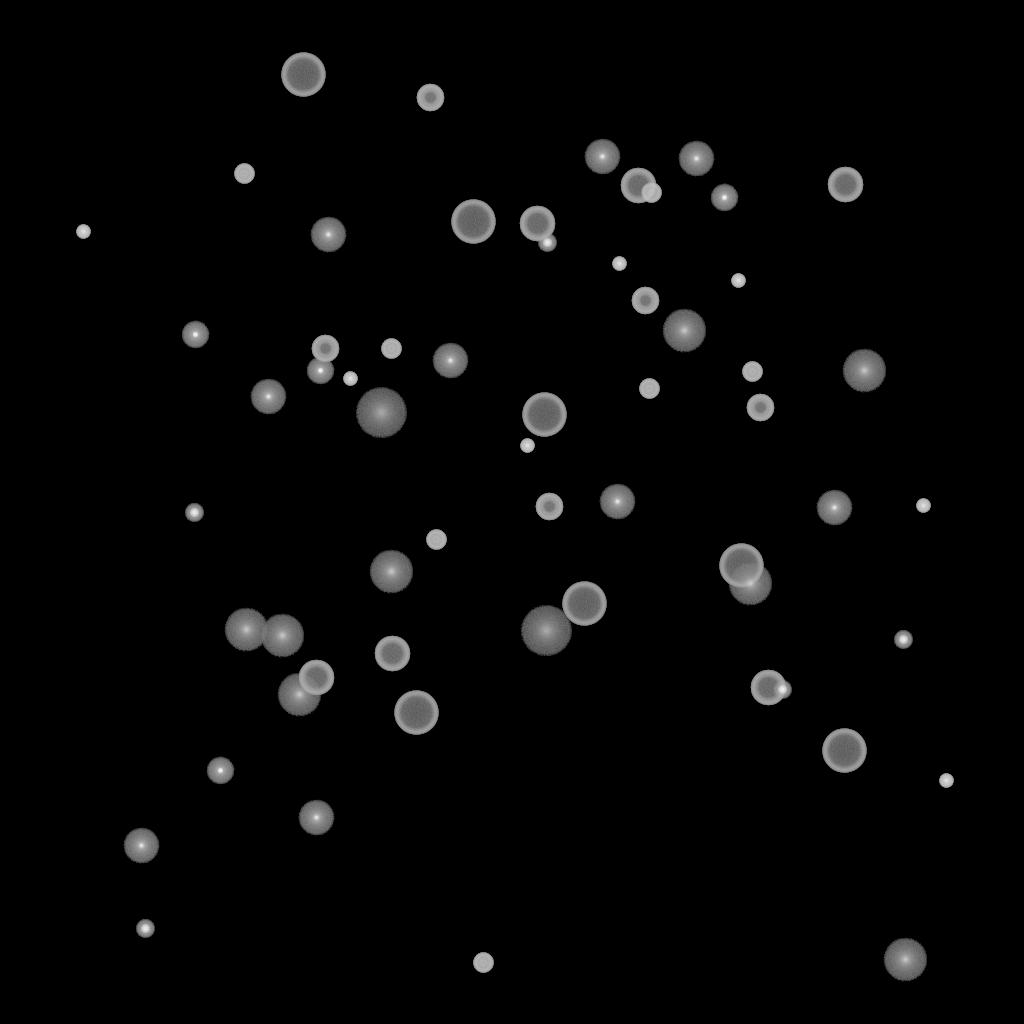depth:-10: (206, 757, 234, 785), (181, 321, 209, 349), (306, 357, 334, 385), (710, 184, 738, 212)
depth:-20: (894, 631, 912, 649), (136, 920, 154, 938), (185, 504, 203, 522), (773, 681, 791, 699), (538, 234, 556, 252)
depth:-30: (731, 274, 745, 288), (343, 372, 357, 386), (916, 499, 930, 513), (939, 774, 953, 788), (612, 257, 626, 271), (76, 225, 90, 239), (520, 439, 534, 453)
depth:-40: (742, 362, 762, 382), (234, 164, 254, 184), (641, 183, 661, 203), (426, 530, 446, 550), (639, 379, 659, 399), (381, 339, 401, 359), (473, 953, 493, 973)
depth:-50: (746, 394, 774, 422), (535, 493, 563, 521), (416, 84, 444, 112), (631, 287, 659, 315), (311, 335, 339, 363)
depth:-60: (298, 660, 334, 696), (519, 206, 555, 242), (827, 167, 863, 203), (374, 636, 410, 672), (620, 168, 656, 204), (750, 670, 786, 706)
depth:-70: (719, 544, 763, 588), (522, 393, 566, 437), (281, 53, 325, 97), (562, 582, 606, 626), (394, 691, 438, 735), (451, 200, 495, 244), (822, 729, 866, 773)
depth:0: (432, 343, 468, 379), (310, 217, 346, 253), (298, 800, 334, 836), (250, 379, 286, 415), (678, 141, 714, 177), (123, 828, 159, 864), (584, 139, 620, 175), (599, 484, 635, 520), (816, 490, 852, 526)
depth:10: (224, 608, 268, 652), (277, 673, 321, 717), (883, 938, 927, 982), (369, 550, 413, 594), (662, 309, 706, 353), (728, 562, 772, 606), (842, 349, 886, 393), (260, 614, 304, 658)
depth:20: (520, 606, 572, 656), (355, 388, 407, 438)
